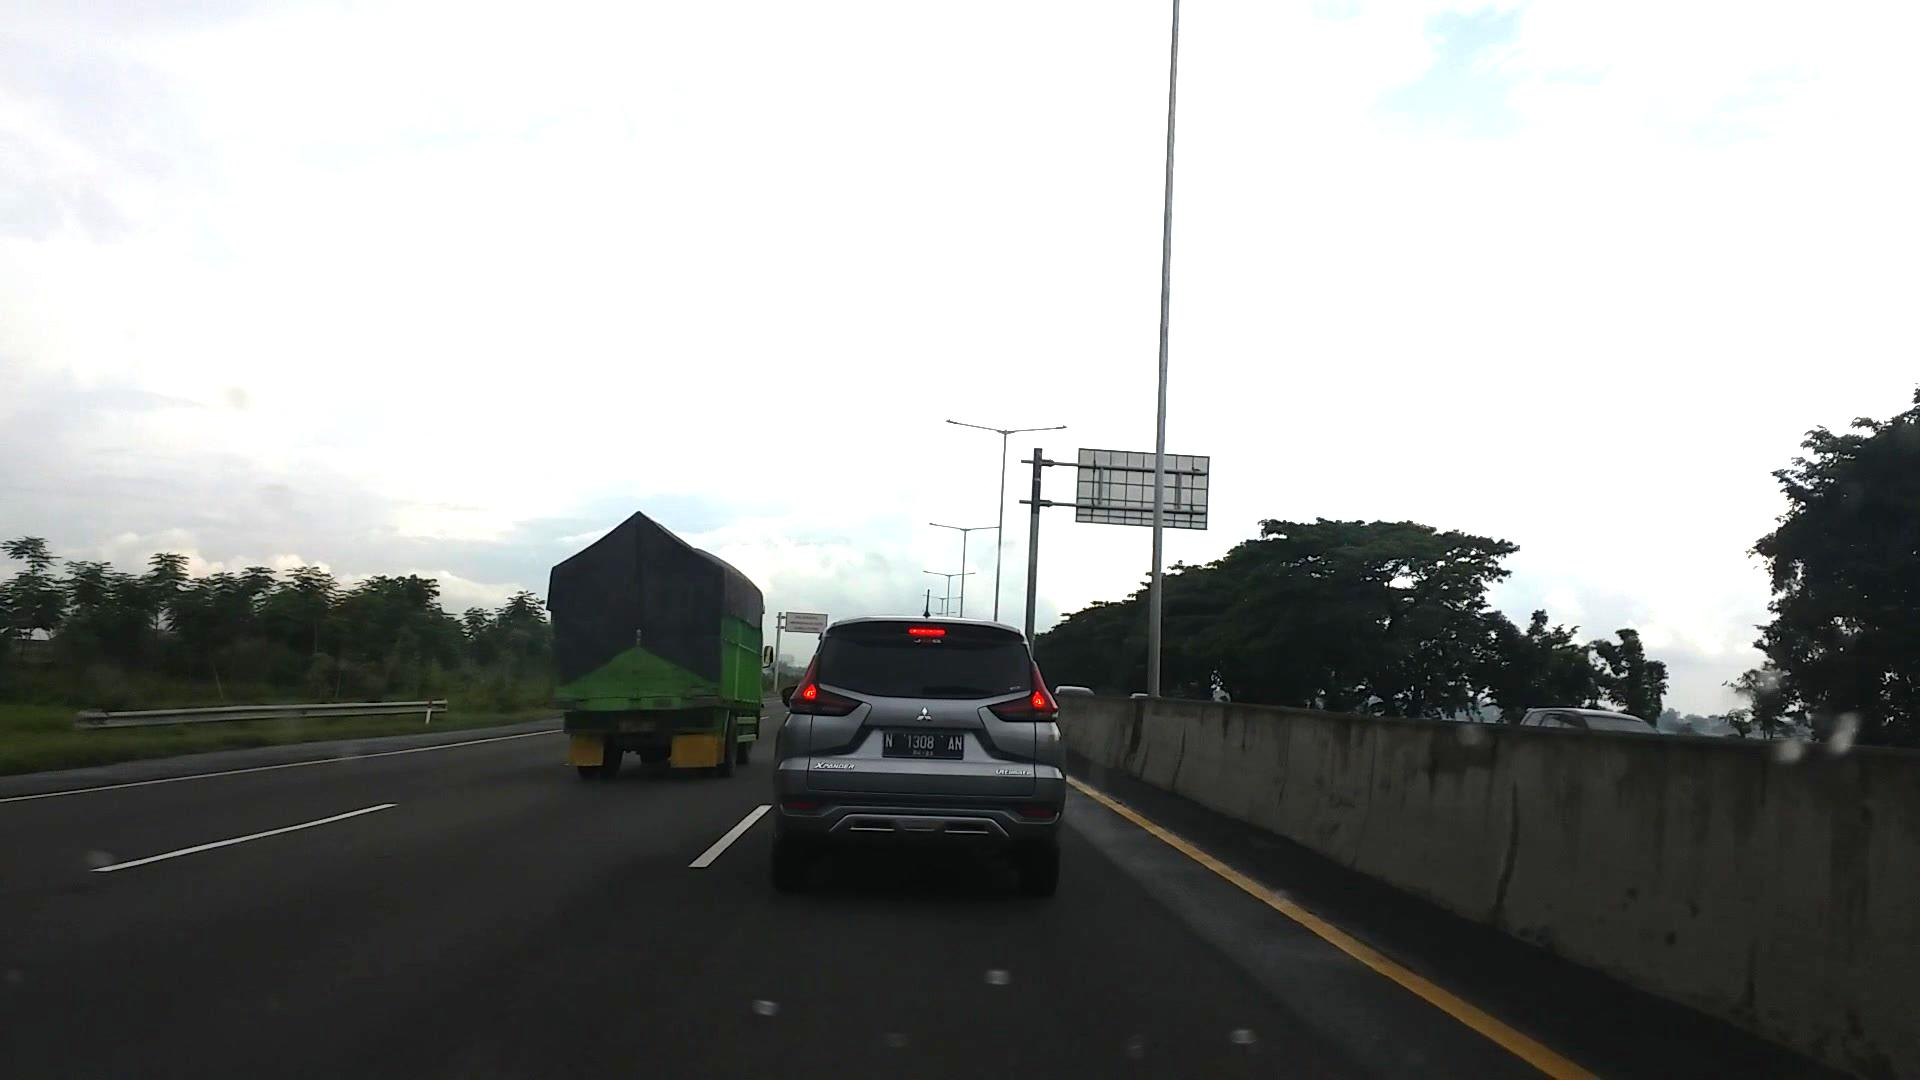plate_positive: (884, 731, 964, 760)
